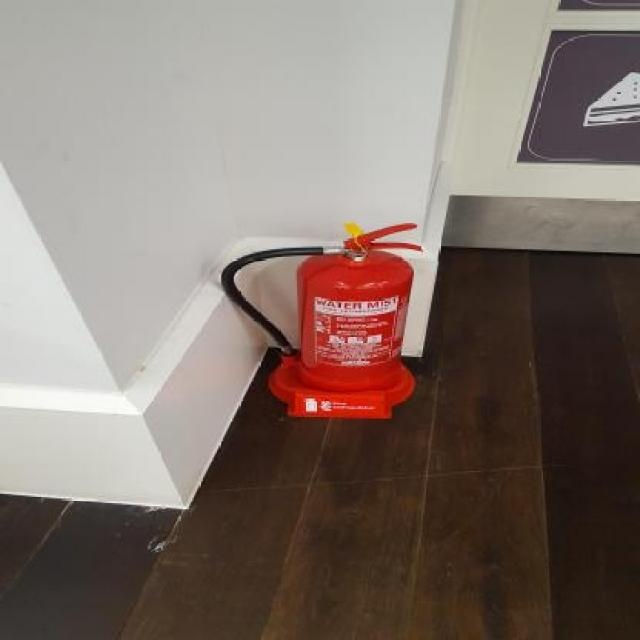fire extinguisher: (222, 223, 426, 391)
